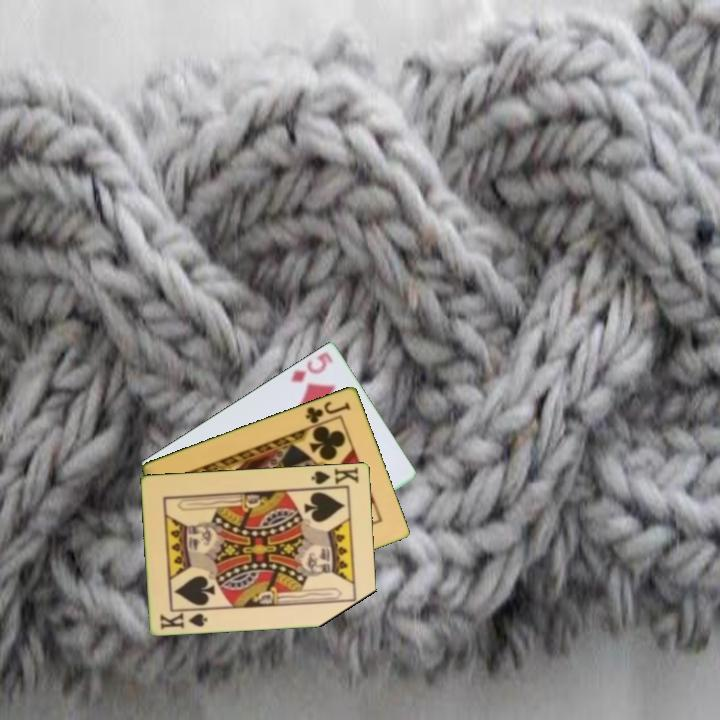5d: (288, 348, 336, 386)
Jc: (302, 397, 354, 426)
Ks: (308, 464, 362, 491), (157, 608, 210, 632)
